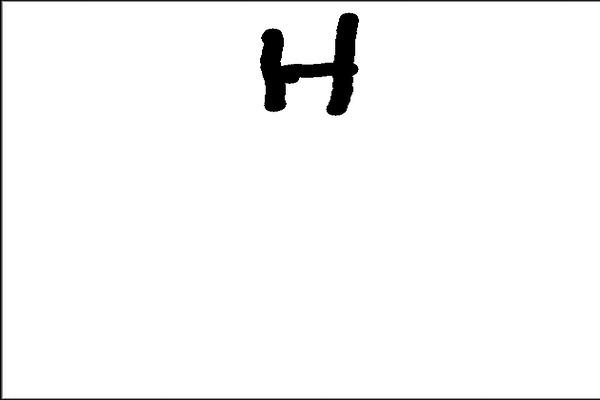H: (247, 10, 379, 124)
